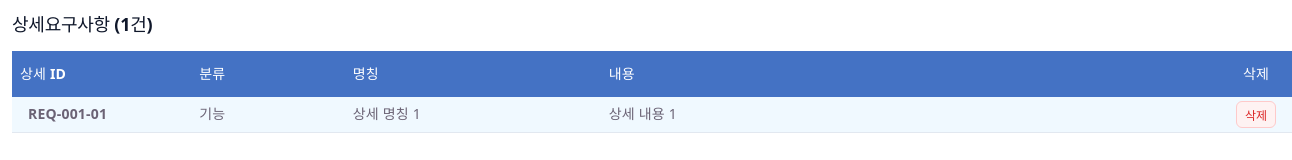
Test: DetailReqTable — 생성 중 편집 비활성화 › isGenerating=false이면 셀 클릭 시 input이 나타난다
The width and height of the screenshot is (1292, 160).
Step 1. Click the cell with test id "cell-REQ-001-01-name" → click(387, 114), box left=345, top=97, right=601, bottom=133
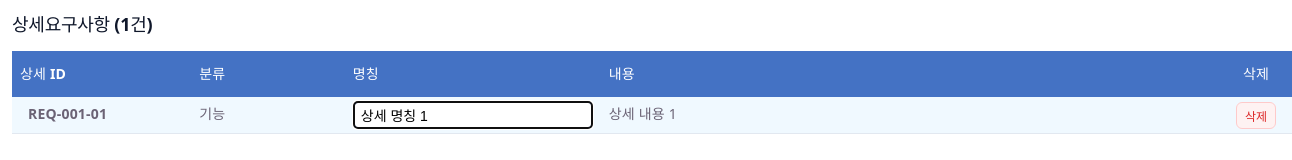
Expected: the field with test id "inline-edit-input" is shown, left=353, top=101, right=593, bottom=129
